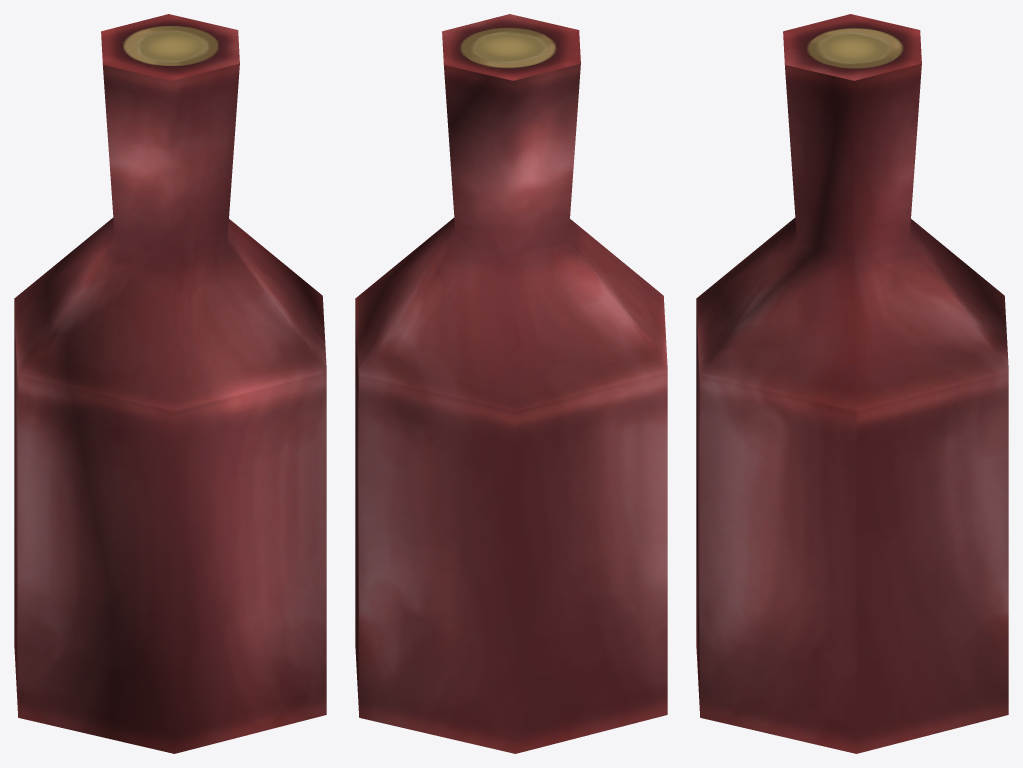
Rendered from potion_04.fbx.
3 views of the same model, side by side, from view 1: azimuth 30°, elevation 25°; view 2: azimuth 150°, elevation 25°; view 3: azimuth 270°, elevation 25° (orthographic).
Parts seen in each view (by area): view 1: potion_04Mesh; view 2: potion_04Mesh; view 3: potion_04Mesh.
Boxes of the visible parts, box(x1,y1,x2,y2) form: potion_04Mesh: box(14, 14, 326, 753); potion_04Mesh: box(355, 14, 667, 753); potion_04Mesh: box(696, 14, 1008, 753).
Size of the model in its own units: 0.3789 by 0.7404 by 0.3324.
